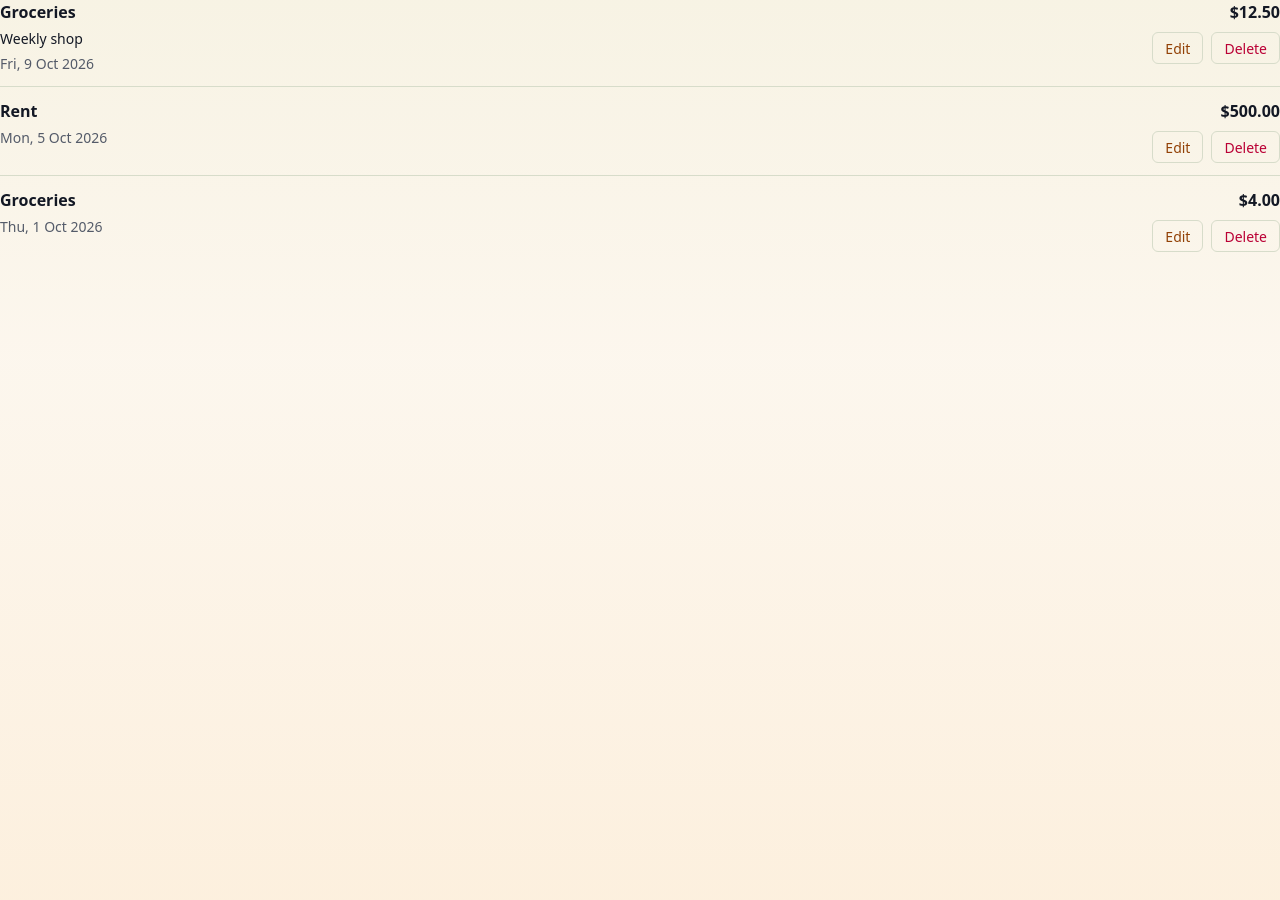
Test: deleting a transaction › keeps the transaction on Cancel and returns focus to its Delete button
Click the button "Delete" below "$500.00".
click(1246, 147)  # box [1211, 131, 1279, 163]
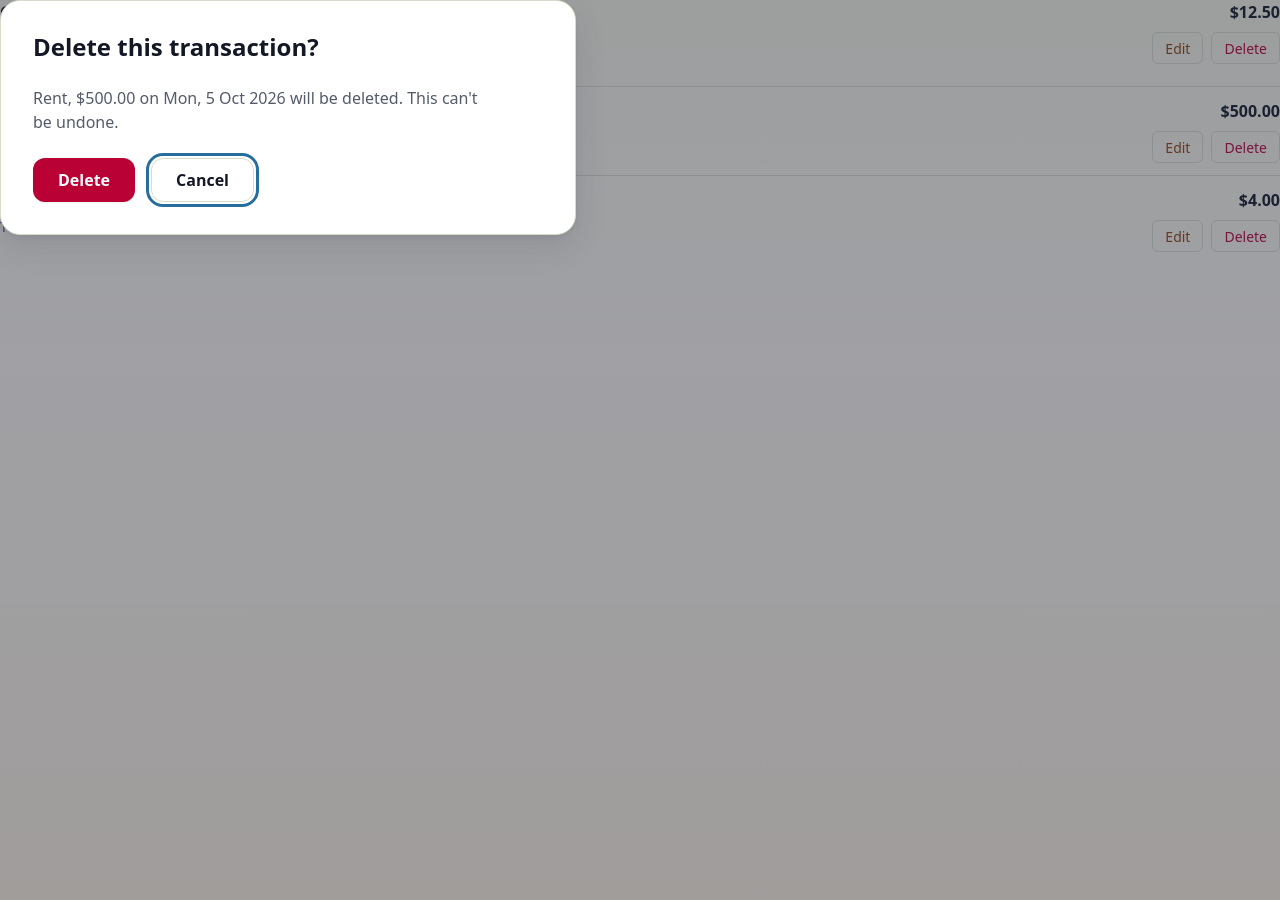
Click the button "Cancel".
click(202, 180)  # box [151, 158, 254, 202]
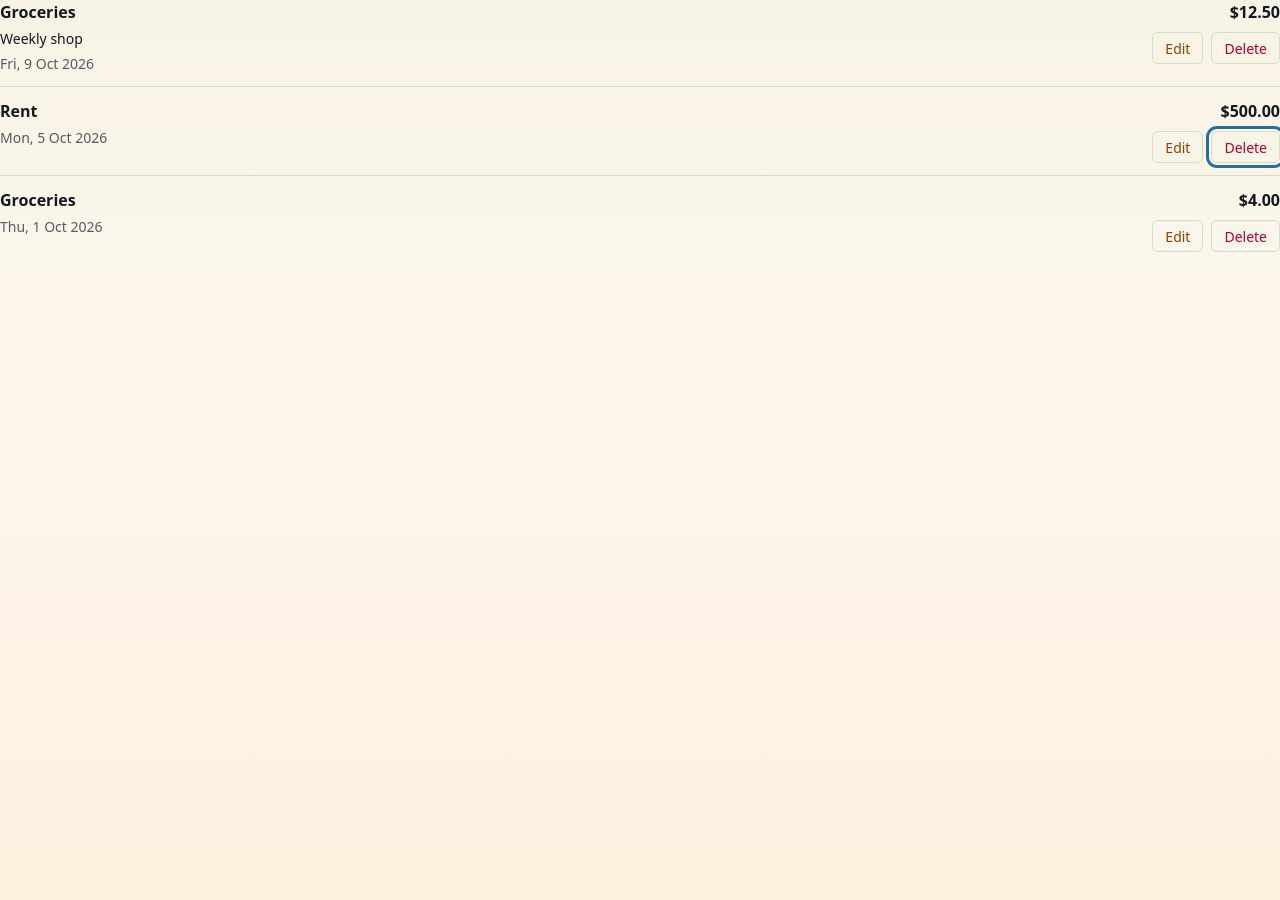
Expected: the number of list items is 3, [0, 0, 1279, 86]; [0, 86, 1279, 175]; [0, 175, 1279, 252]
Expected: the dialog is gone
